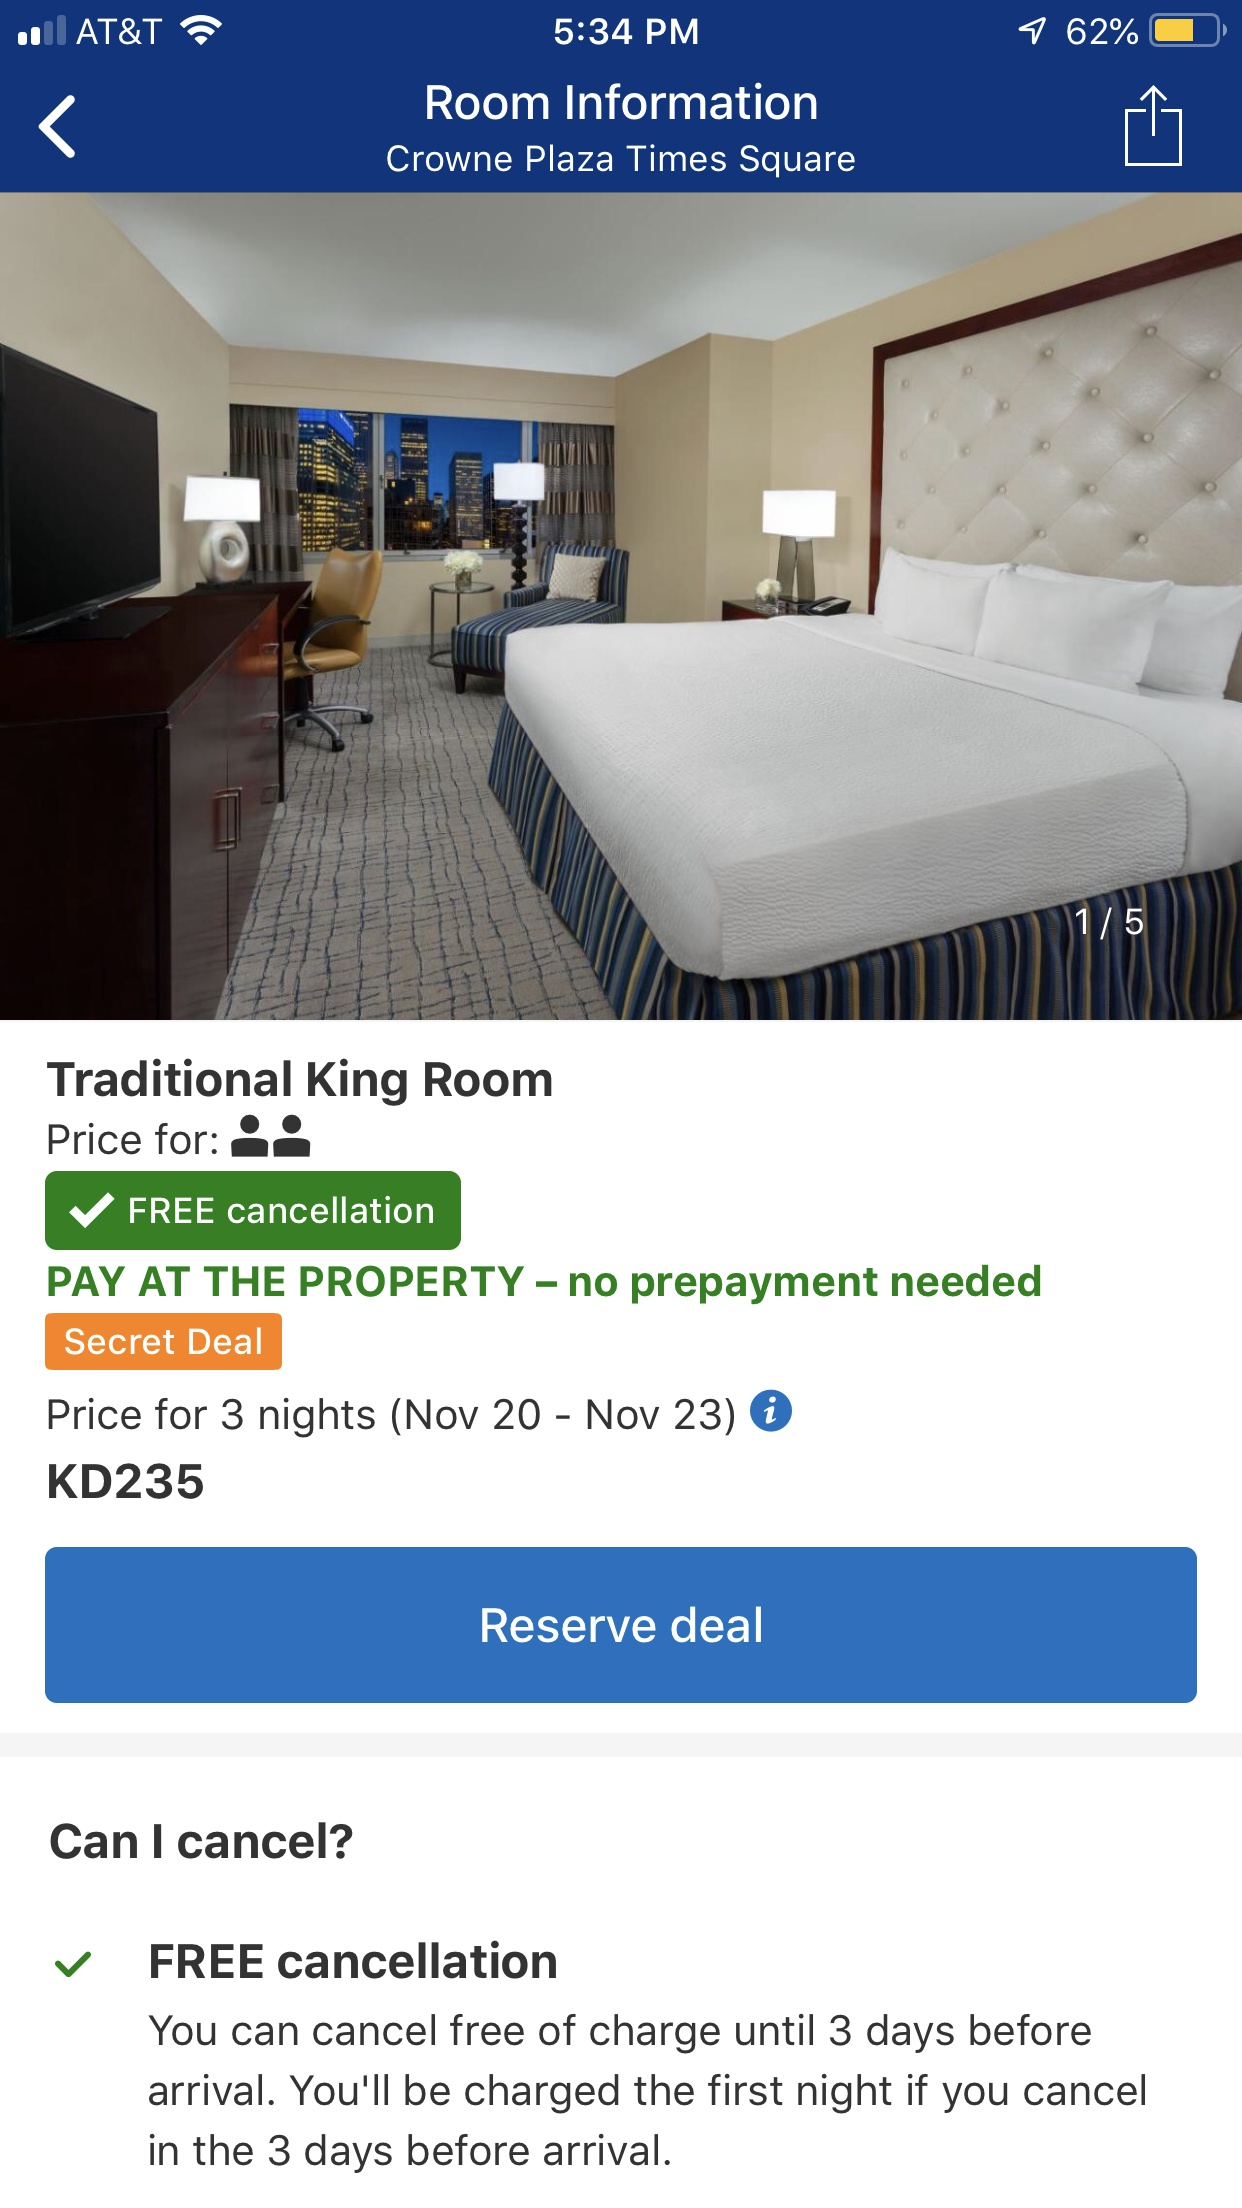Icon: (1124, 85, 1183, 168), (231, 1113, 312, 1159), (38, 96, 77, 161), (751, 1389, 793, 1433), (55, 1952, 93, 1977)
Image: (2, 193, 1242, 1021)
Text: (149, 2012, 1146, 2175), (49, 1265, 1040, 1306), (49, 1397, 735, 1439), (47, 1059, 554, 1109), (387, 143, 857, 180), (150, 1940, 557, 1981), (428, 82, 817, 121), (52, 1821, 353, 1861), (50, 1462, 205, 1500), (49, 1124, 218, 1156), (1074, 907, 1143, 942)
TextButton: (45, 1547, 1198, 1705), (45, 1171, 463, 1251), (45, 1313, 284, 1371)
UpperTaskBar: (2, 2, 1242, 49)
